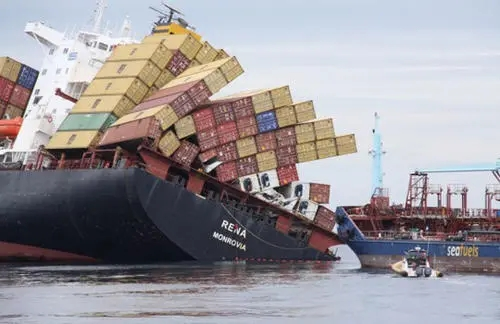Cargoship: (2, 6, 347, 254), (320, 163, 500, 267)
